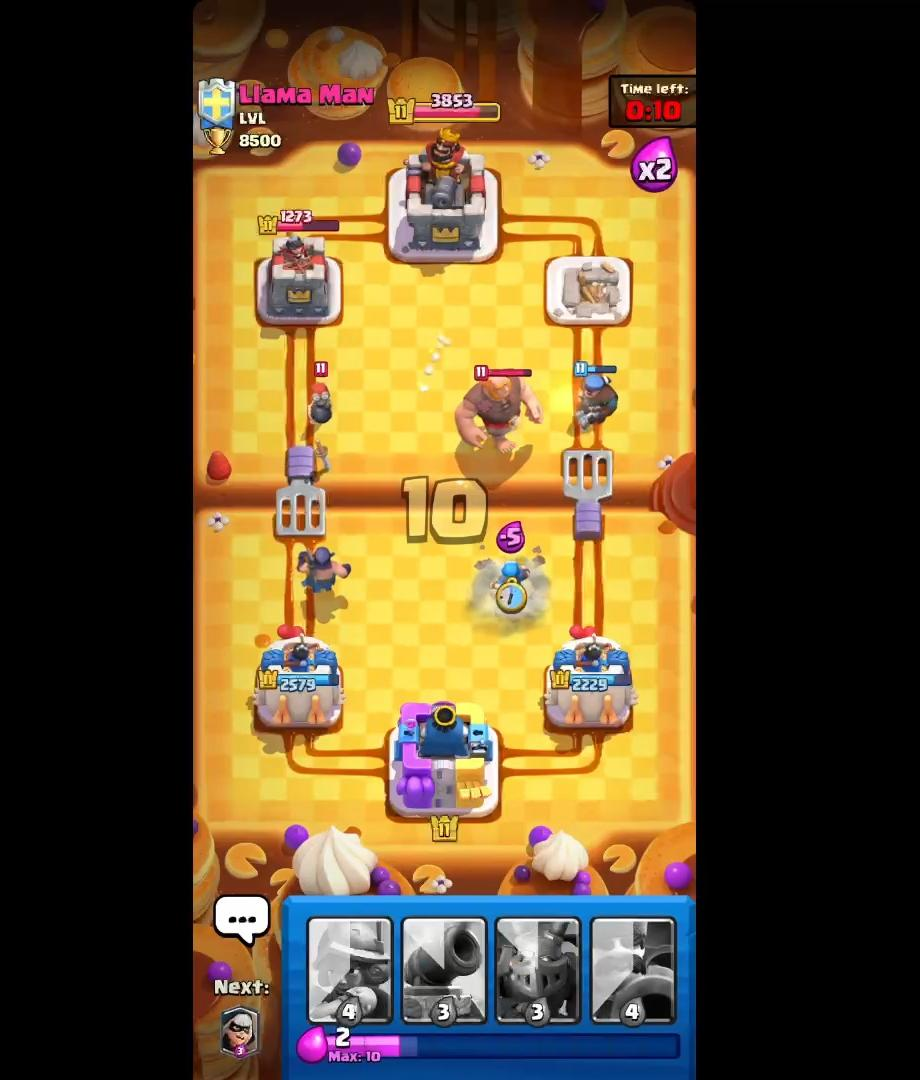Bomber: (301, 356, 343, 432)
Giant: (456, 359, 543, 474)
